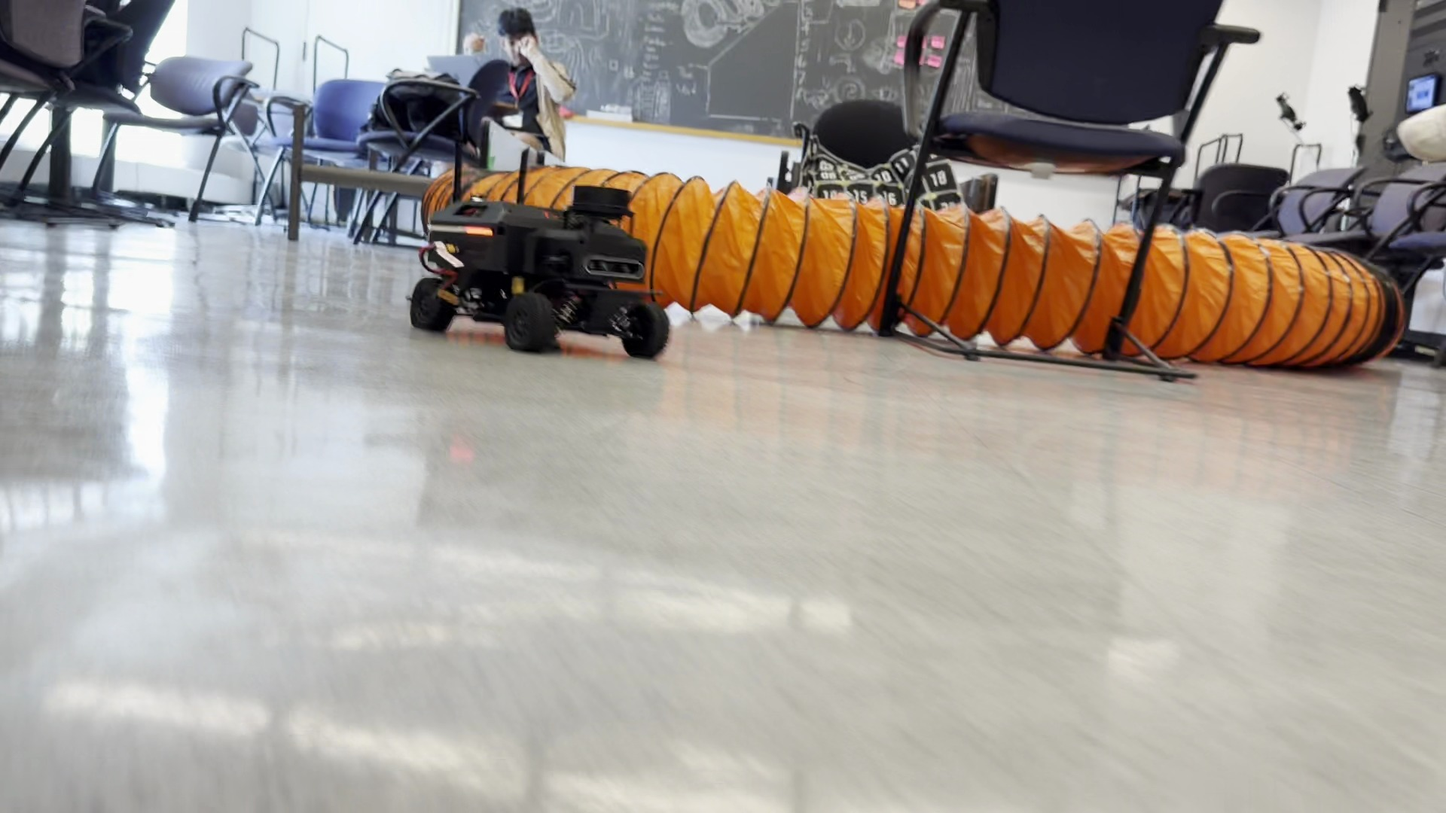racecar: (408, 187, 671, 359)
